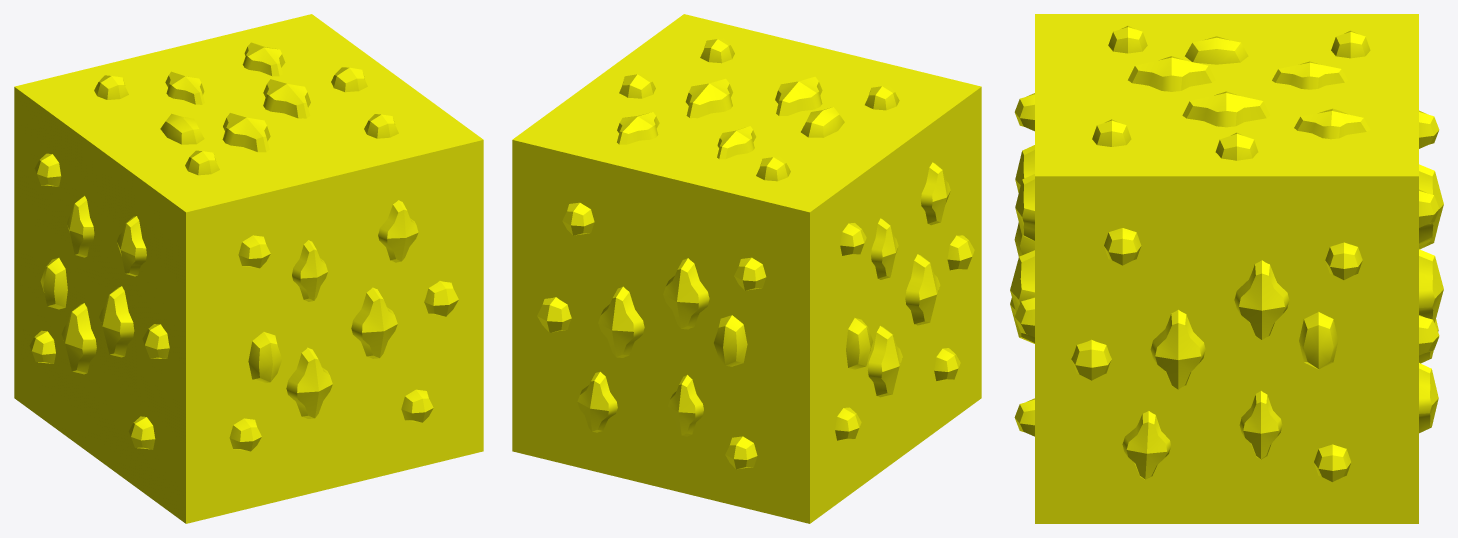
The model's file is Block_Diamond.glb.
The picture shows the model from 3 angles, left to right: view 1: azimuth 30°, elevation 25°; view 2: azimuth 150°, elevation 25°; view 3: azimuth 270°, elevation 25°; orthographic projection. The views are drawn at different scales.
Visible parts, largest first — view 1: Block_Diamond; view 2: Block_Diamond; view 3: Block_Diamond.
Boxes of the visible parts, <box> form: Block_Diamond: <box>14,14,483,523</box>; Block_Diamond: <box>512,14,981,523</box>; Block_Diamond: <box>1010,14,1443,523</box>.
Bounding box in the file's own units: 2.26 × 2.26 × 2.26.
Materials: 1 (1 with a texture image).
